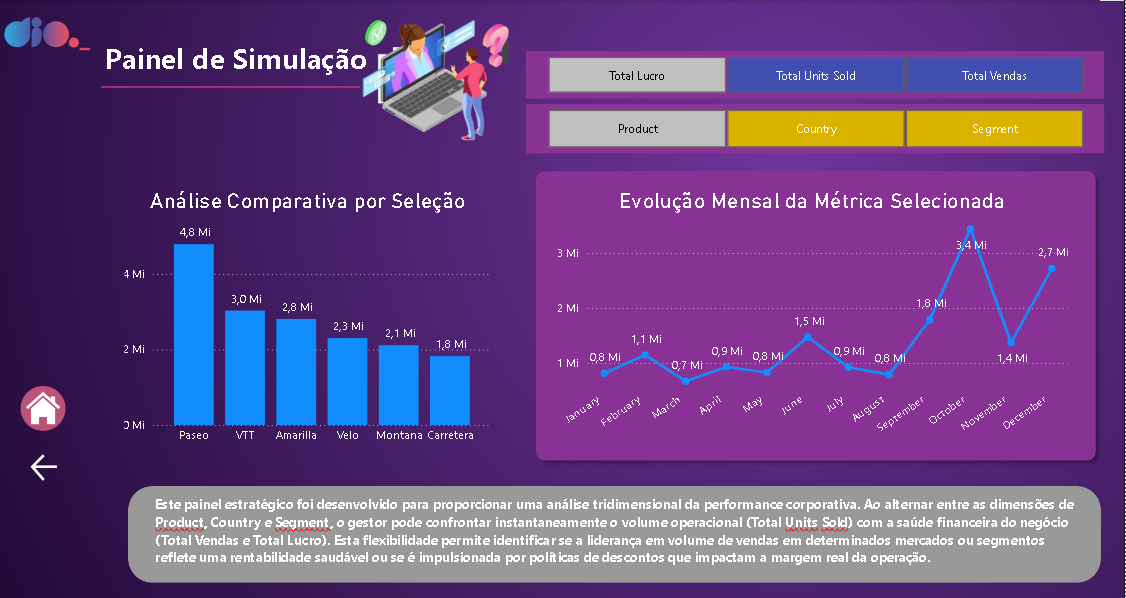

This screenshot's page, from the dashboard's own definition file:
{"tool":"powerbi","page":{"name":"Simulação Estratégica","canvas":[1280,720],"ordinal":6},"visuals":[{"type":"image","box":[0,0,1280,720],"z":0},{"type":"shape","box":[601.4,211.4,654.3,347.1],"z":1000},{"type":"slicer","fields":{"Values":["Seletor de Categoria.Seletor de Categoria"]},"box":[598.6,144.3,657.1,55.7],"z":2000},{"type":"textbox","box":[116,64,468,62],"z":3000},{"type":"clusteredColumnChart","title":"Análise Comparativa por Seleção","fields":{"Category":["financials.Product"],"Y":["financials.Total Lucro"]},"box":[137.1,241.4,427.1,297.1],"z":4000},{"type":"slicer","fields":{"Values":["Seletor de Performance.Seletor de Performance"]},"box":[598.6,84.3,657.1,54.3],"z":5000},{"type":"lineChart","title":"Evolução Mensal da Métrica Selecionada","fields":{"Y":["financials.Total Lucro"],"Category":["financials.Month Name"]},"box":[628.6,241.4,591.4,297.1],"z":6000},{"type":"image","box":[21.4,464.3,57.1,51.4],"z":7000},{"type":"actionButton","box":[22.5,460,57.5,60],"z":8000},{"type":"actionButton","box":[32,538,46,40],"z":9000},{"type":"image","box":[6,2,98,124],"z":10000},{"type":"shape","box":[115.7,111.4,294.3,27.1],"z":11000},{"type":"image","box":[410,34,172,166],"z":12000},{"type":"shape","box":[147.1,578.6,1105.7,110],"z":13000},{"type":"textbox","box":[172.5,583.8,1055,98.8],"z":14000}]}

Visuals, with their boxes on the page's 1280x720 design canvas (x1, y1, x2, y2). These are canvas units, not pixel positions in the 1126x598 screenshot, which may show the page scaled, cropped or inside an application window:
image: locate(0, 0, 1280, 720)
shape: locate(601, 211, 1256, 558)
slicer - Seletor de Categoria.Seletor de Categoria: locate(599, 144, 1256, 200)
textbox: locate(116, 64, 584, 126)
"Análise Comparativa por Seleção" clusteredColumnChart: locate(137, 241, 564, 538)
slicer - Seletor de Performance.Seletor de Performance: locate(599, 84, 1256, 139)
"Evolução Mensal da Métrica Selecionada" lineChart: locate(629, 241, 1220, 538)
image: locate(21, 464, 78, 516)
actionButton: locate(22, 460, 80, 520)
actionButton: locate(32, 538, 78, 578)
image: locate(6, 2, 104, 126)
shape: locate(116, 111, 410, 138)
image: locate(410, 34, 582, 200)
shape: locate(147, 579, 1253, 689)
textbox: locate(172, 584, 1228, 683)
